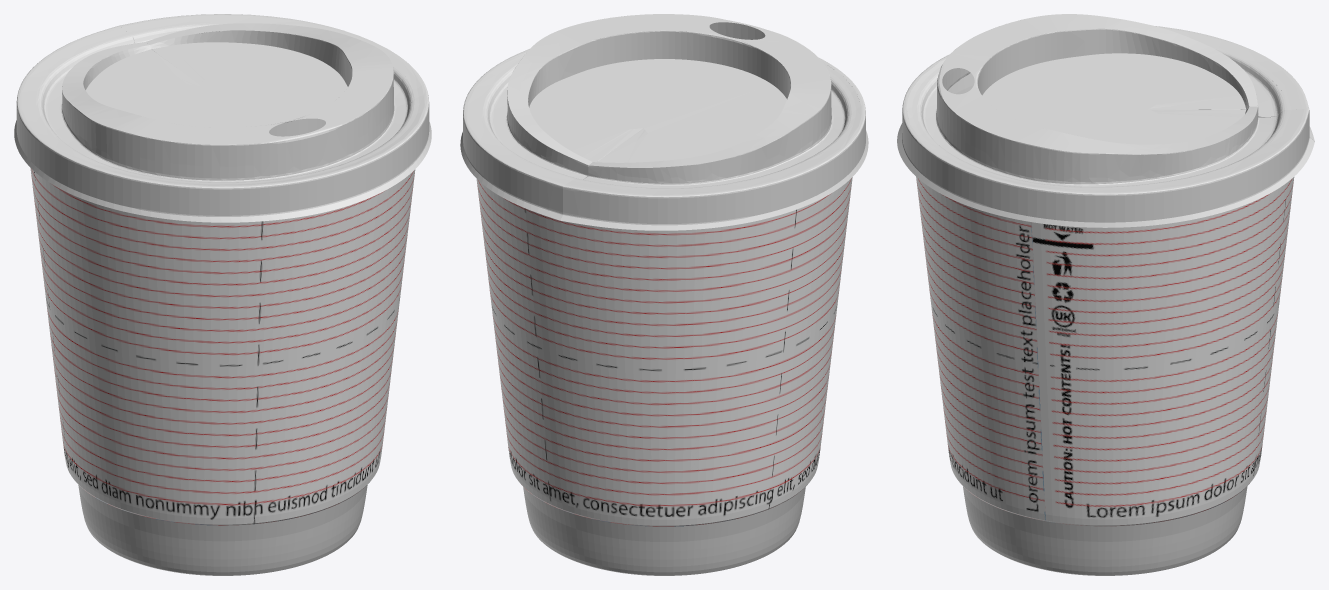
3 views of the same model, side by side, from view 1: azimuth 30°, elevation 25°; view 2: azimuth 150°, elevation 25°; view 3: azimuth 270°, elevation 25° (orthographic). The views are drawn at different scales.
Parts seen in each view (by area): view 1: Circle, Lid; view 2: Circle, Lid; view 3: Circle, Lid.
Part boxes in pixels (x1,y1,x2,y2): Circle: (30,168,415,575); Lid: (14,14,431,222); Circle: (476,177,852,575); Lid: (460,14,868,230); Circle: (916,73,1294,575); Lid: (897,14,1314,227).
Size of the model in its own units: 0.8327 by 0.9819 by 0.8489.
4 materials, 1 textured.
